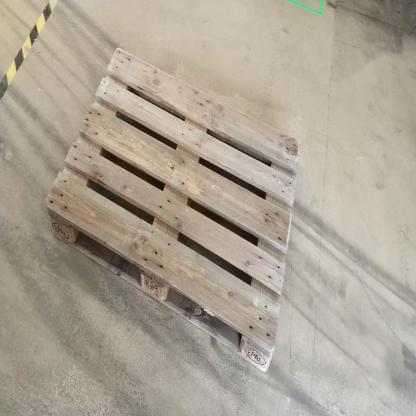BoxFace: (41, 39, 304, 382)
